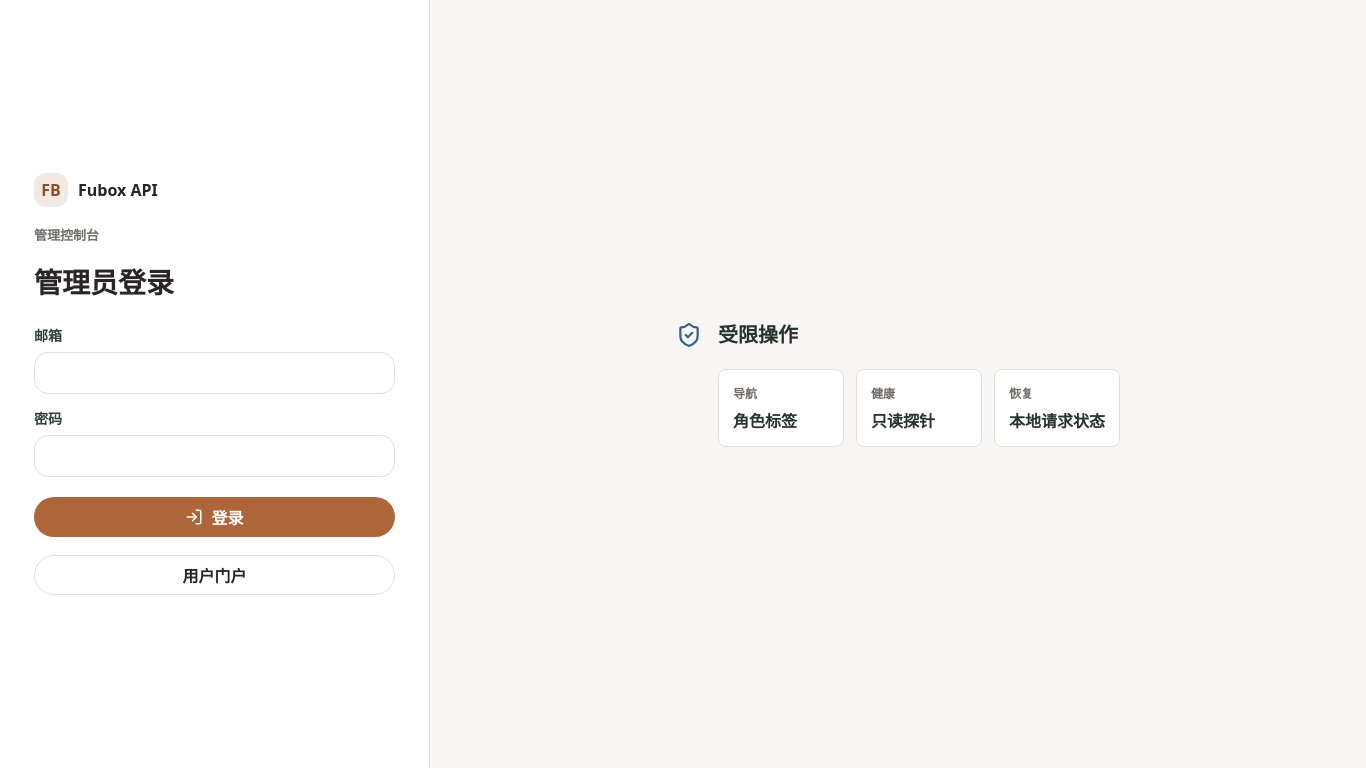
Test: App › trims navigation for viewer capability summary without hiding all sections
Step 1. Type "operator@example.com" into the field labelled "邮箱" → [214, 373], box [34,352,395,394]
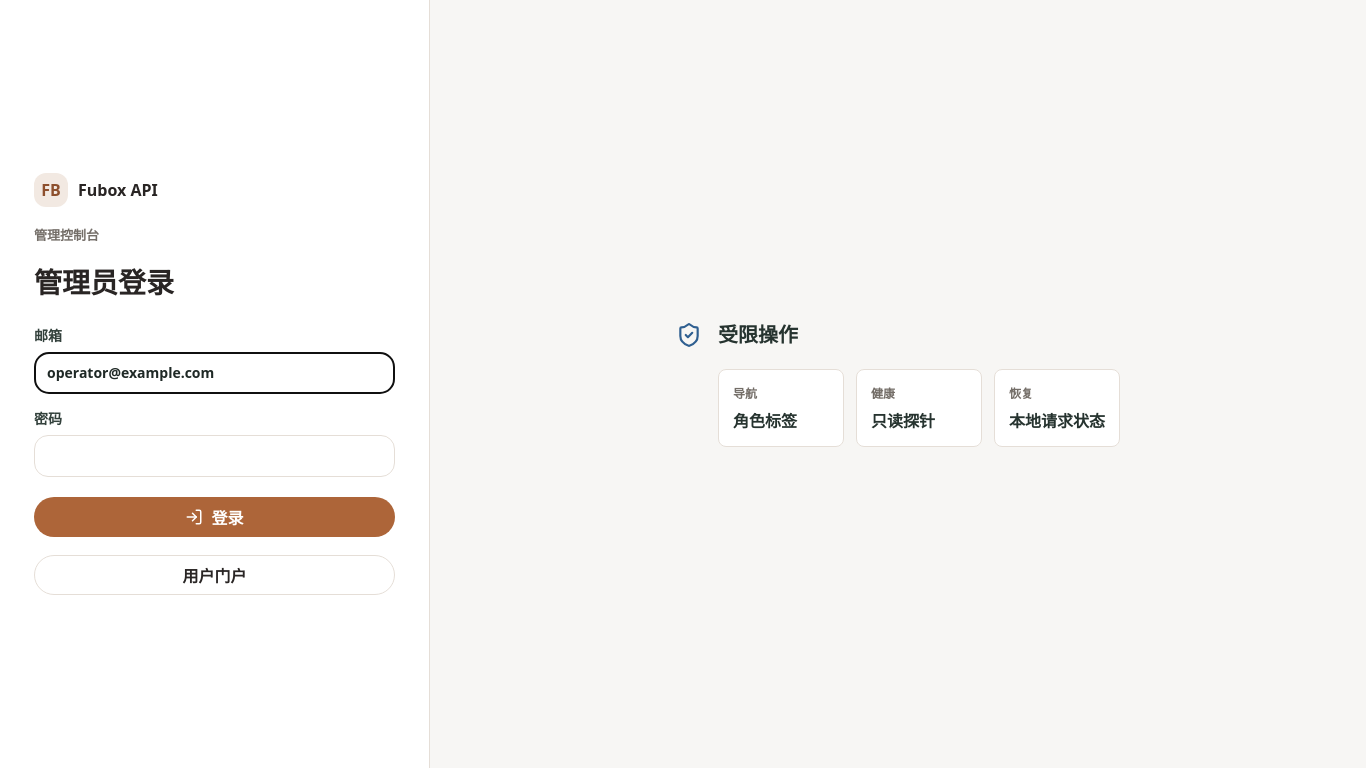
Step 2. Type "local-password" into the password field labelled "密码" → [214, 456], box [34,435,395,477]
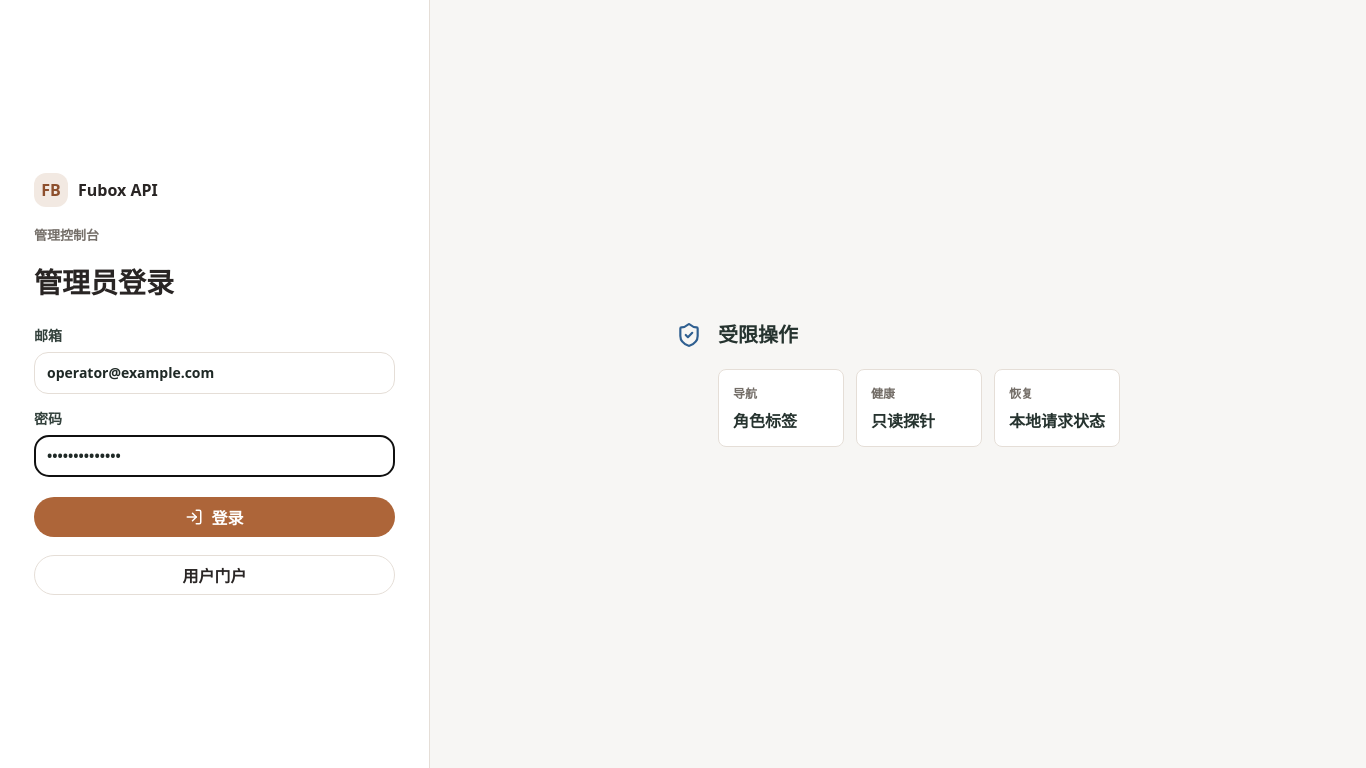
Step 3. Click the button "登录" → [214, 517], box [34,497,395,537]
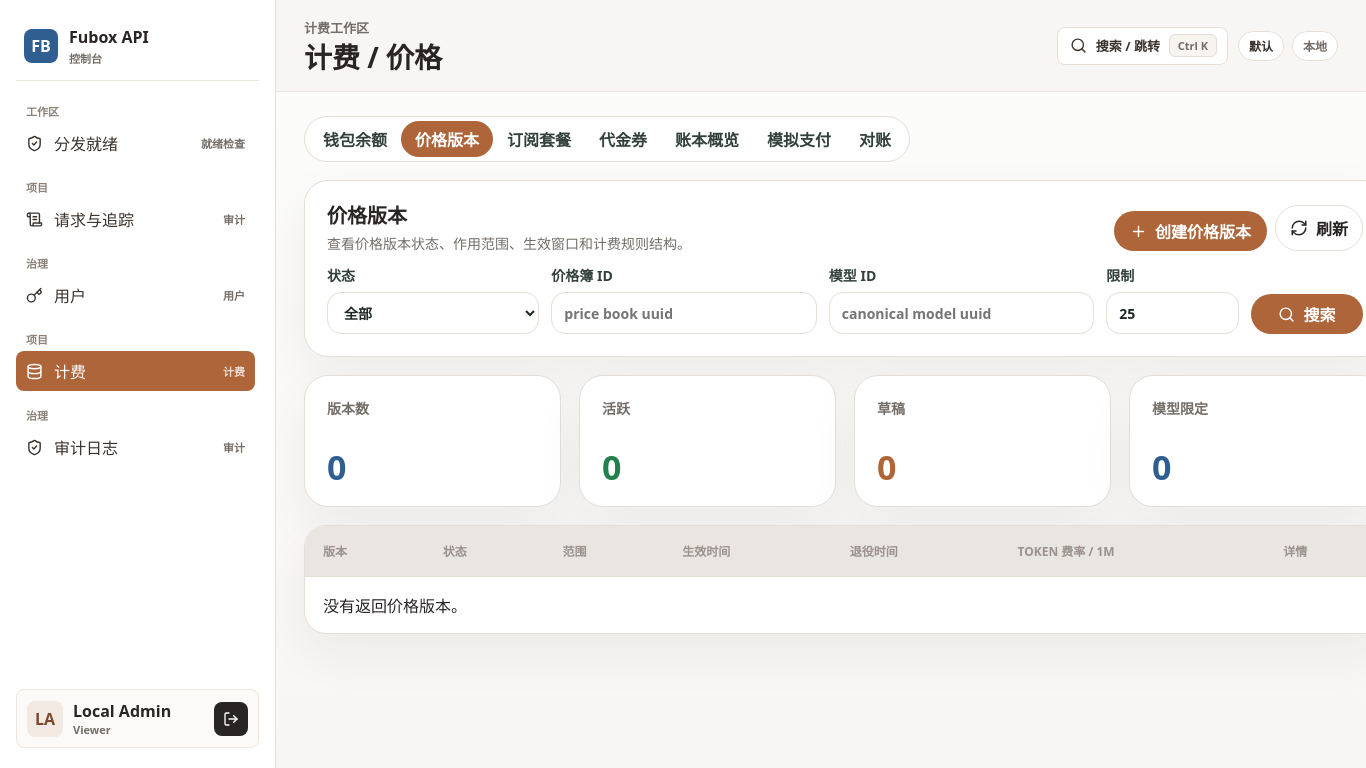
Now the button "请求与追踪 审计" is shown, box [16,199,255,239]
Now the button "审计日志 审计" is shown, box [16,427,255,467]
Now the button "计费 计费" is shown, box [16,351,255,391]
